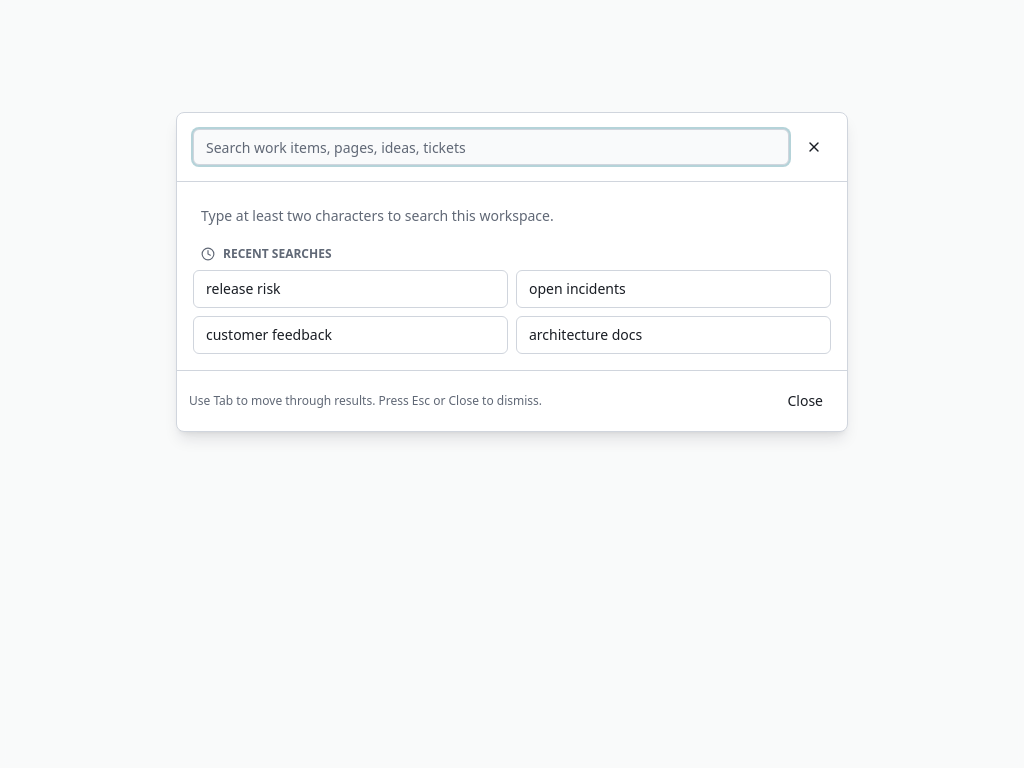
Test: SearchDialog › groups workspace search results by source type
This screenshot has width=1024, height=768.
Type "memory" into the field with placeholder "Search work items, pages, ideas, tickets".
click(491, 147); type("memory")  # box x1=193 y1=129 x2=789 y2=165
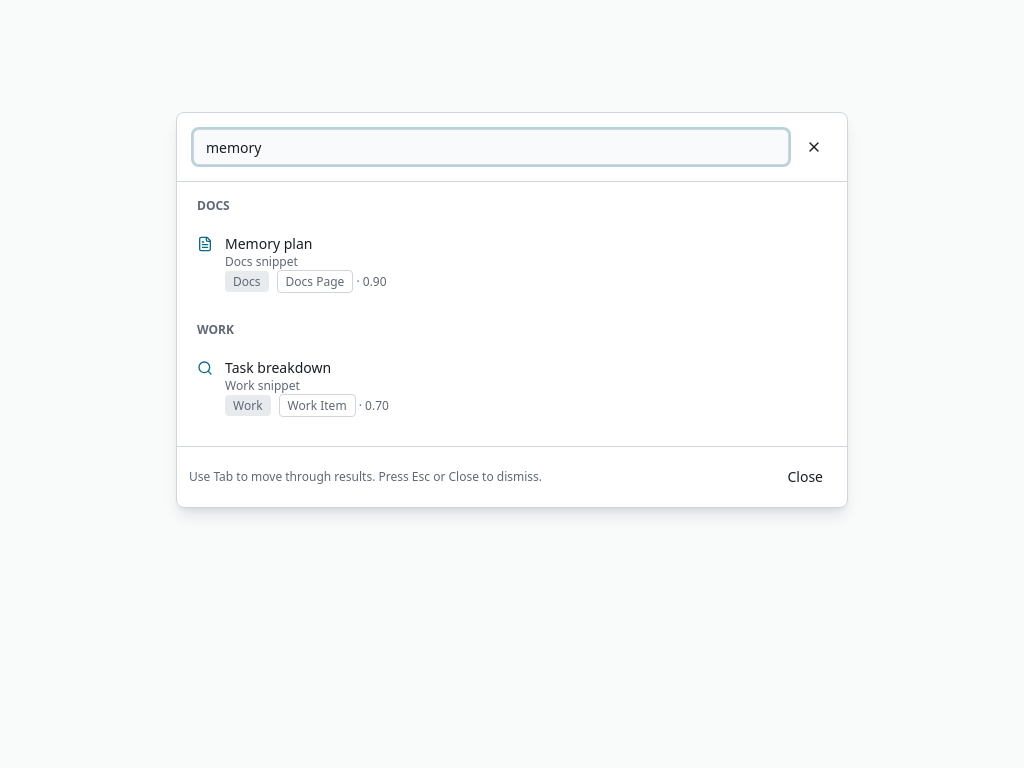
Expected: the text "Memory plan" is shown, x1=225 y1=234 x2=312 y2=253
Expected: the 1st text "Docs" is shown, x1=197 y1=197 x2=230 y2=214
Expected: the 1st text "Work" is shown, x1=197 y1=321 x2=234 y2=338
